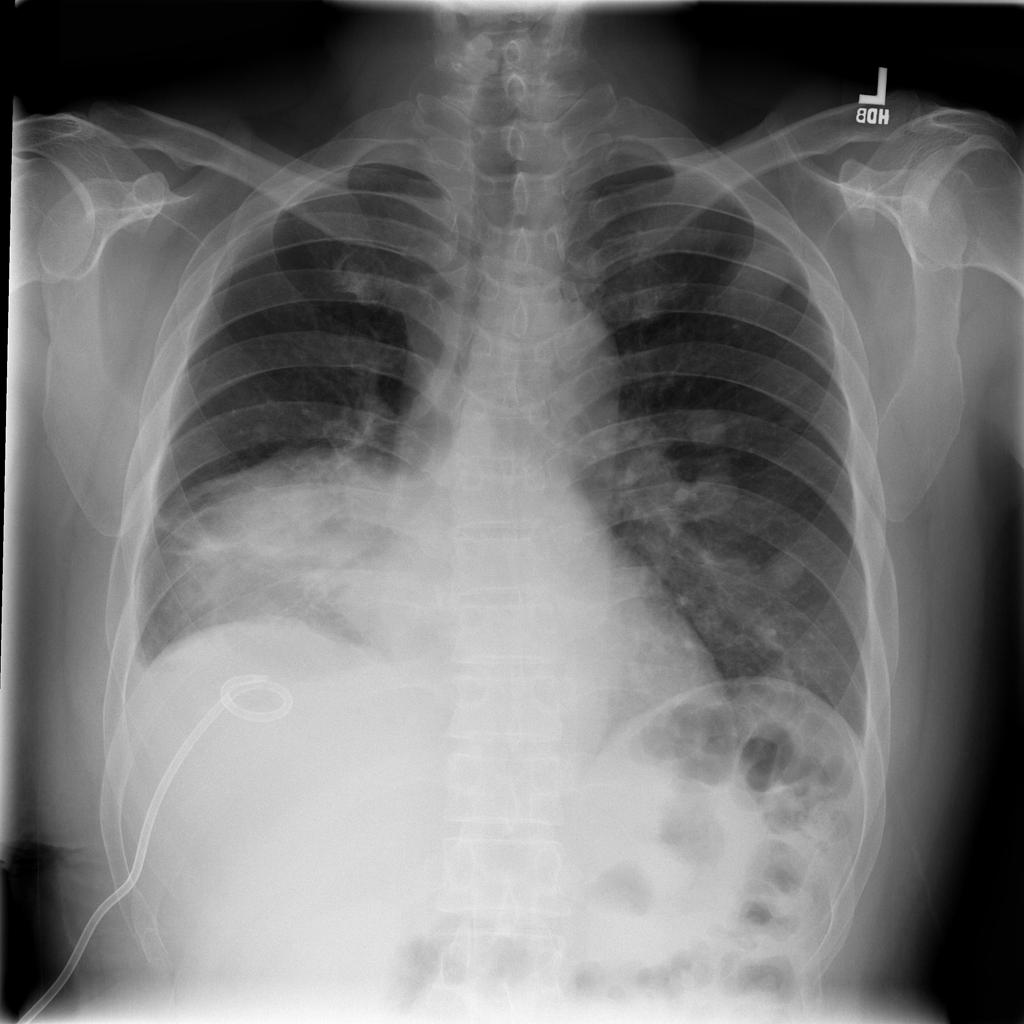nodule: (698, 237, 799, 314), (670, 461, 756, 527), (753, 533, 828, 603), (670, 392, 746, 459), (235, 408, 287, 456)
